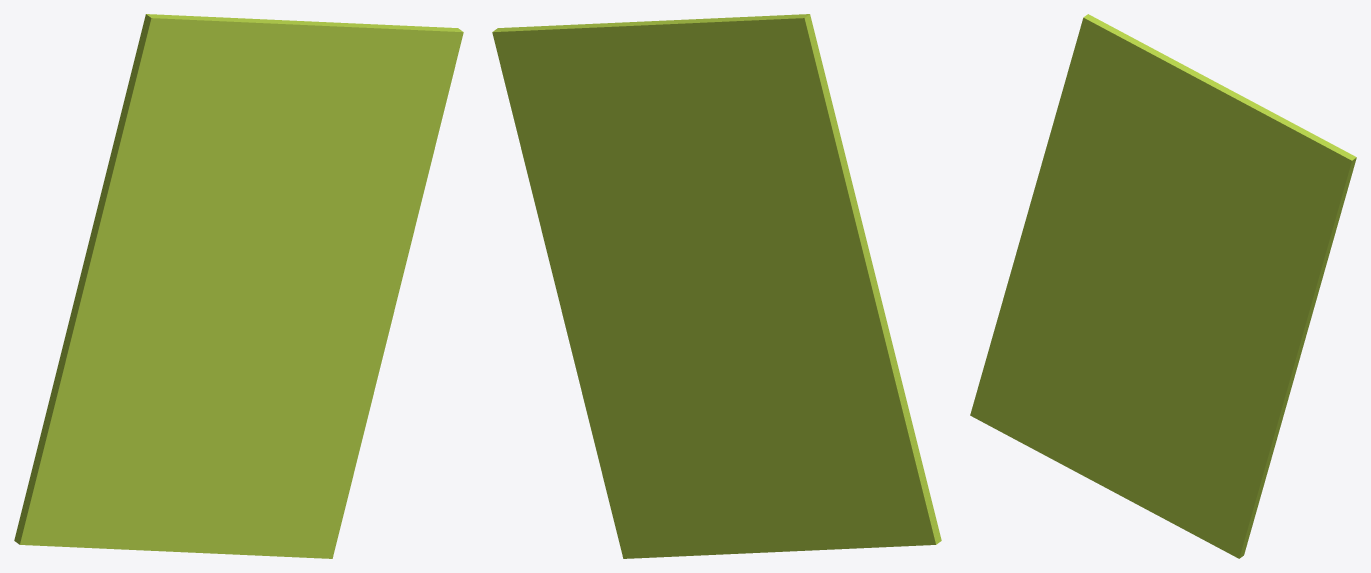
The picture shows the model from 3 angles, left to right: view 1: azimuth 30°, elevation 25°; view 2: azimuth 150°, elevation 25°; view 3: azimuth 330°, elevation 25°; orthographic projection. The views are drawn at different scales.
Visible parts, largest first — view 1: osm-way27917482-F1; view 2: osm-way27917482-F1; view 3: osm-way27917482-F1.
Part boxes in pixels (bbox=[...]): osm-way27917482-F1: bbox=[14, 14, 463, 558]; osm-way27917482-F1: bbox=[492, 14, 941, 558]; osm-way27917482-F1: bbox=[970, 14, 1356, 558].
Bounding box in the file's own units: 6.86 × 8.64 × 0.15.
